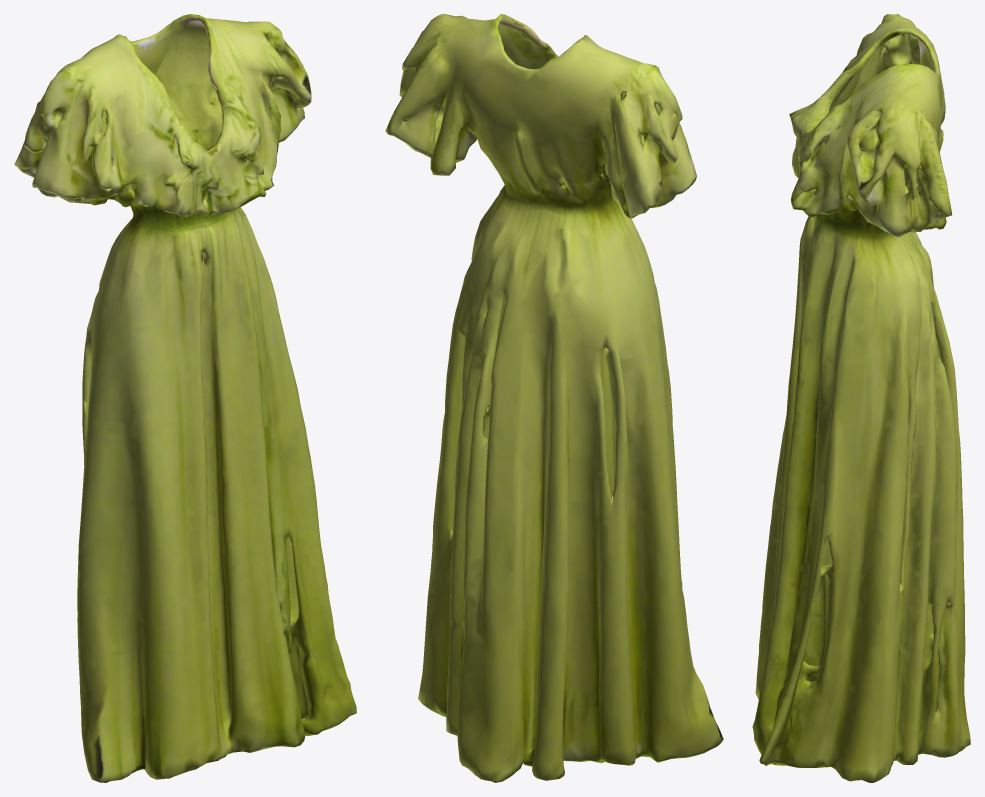
The model's file is job_1743892390_refined.glb.
3 views of the same model, side by side, from view 1: azimuth 30°, elevation 25°; view 2: azimuth 150°, elevation 25°; view 3: azimuth 270°, elevation 25° (orthographic). The views are drawn at different scales.
Size of the model in its own units: 0.8119 by 2 by 0.5699.
1 material, 1 textured.
